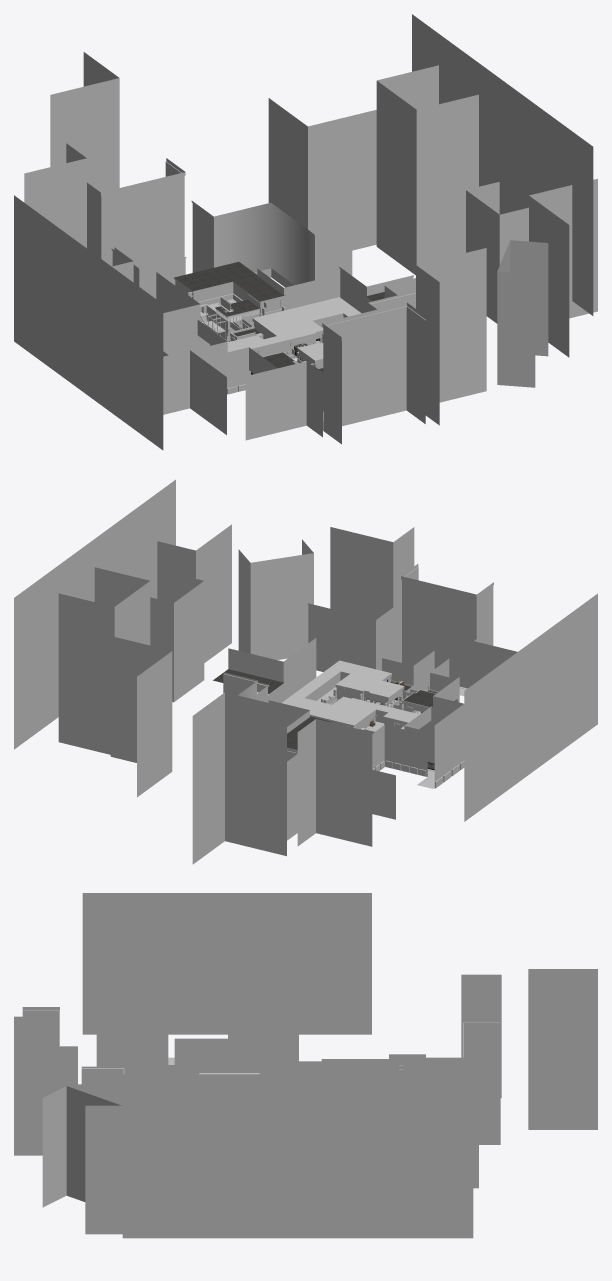
Rendered from Sentrybase_World.obj.
3 renders of one model, top to bottom at view 1: azimuth 30°, elevation 25°; view 2: azimuth 150°, elevation 25°; view 3: azimuth 270°, elevation 25°, orthographic. The views are drawn at different scales.
Visible parts, largest first — view 1: Sentrybase_World_OUT; view 2: Sentrybase_World_OUT; view 3: Sentrybase_World_OUT.
Part boxes in pixels (x1,y1,x2,y2): Sentrybase_World_OUT: (14, 14, 597, 450); Sentrybase_World_OUT: (14, 479, 597, 864); Sentrybase_World_OUT: (14, 893, 597, 1238).
Bounding box in the file's own units: 227 × 84.97 × 249.
